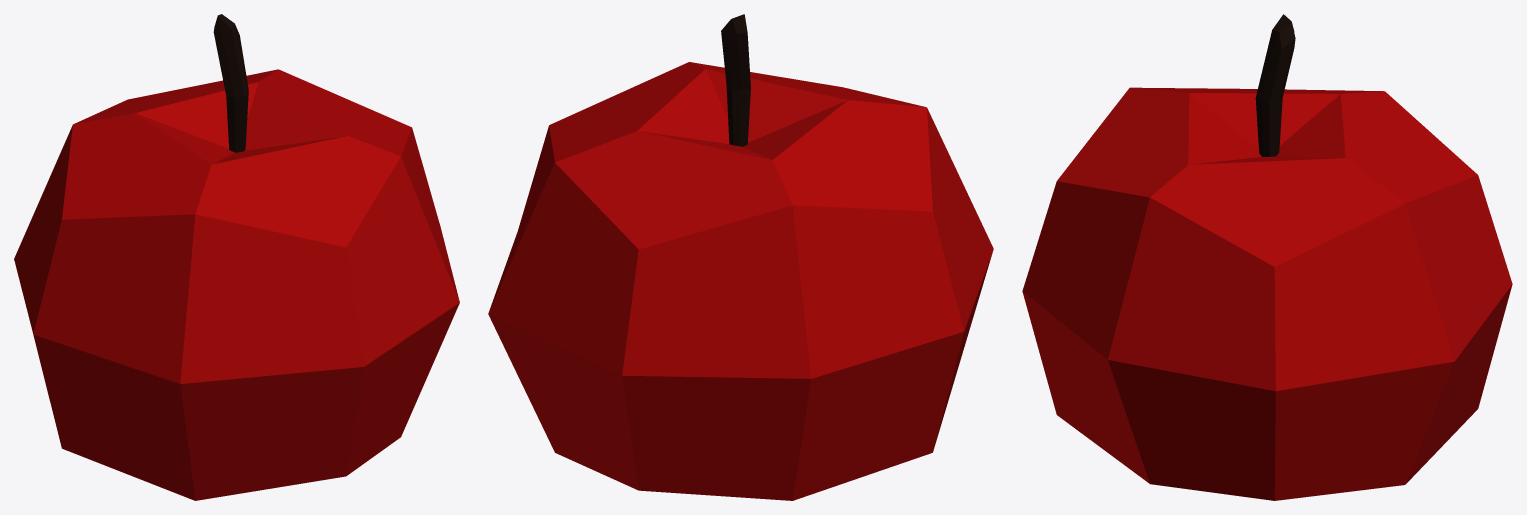
The model's file is apple.obj.
3 views of the same model, side by side, from view 1: azimuth 30°, elevation 25°; view 2: azimuth 150°, elevation 25°; view 3: azimuth 270°, elevation 25° (orthographic). The views are drawn at different scales.
Visible parts, largest first — view 1: Cube.001_Cube.000; view 2: Cube.001_Cube.000; view 3: Cube.001_Cube.000.
Part boxes in pixels (<box>): Cube.001_Cube.000: <box>14,14,459,500</box>; Cube.001_Cube.000: <box>488,14,993,500</box>; Cube.001_Cube.000: <box>1022,14,1512,500</box>.
Bounding box in the file's own units: 1.35 × 1.32 × 1.35.
